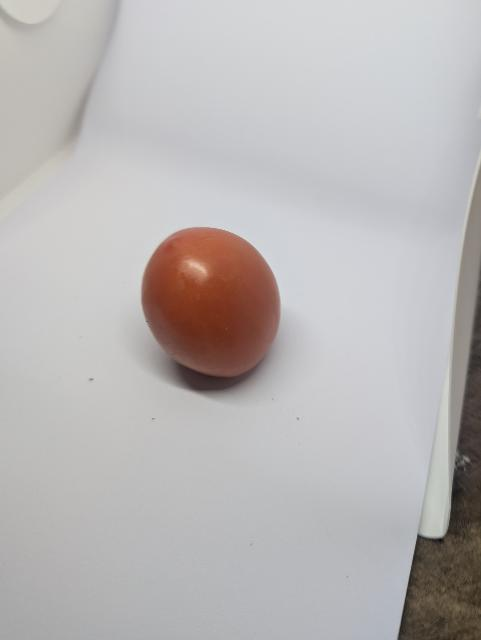red: (130, 223, 296, 399)
